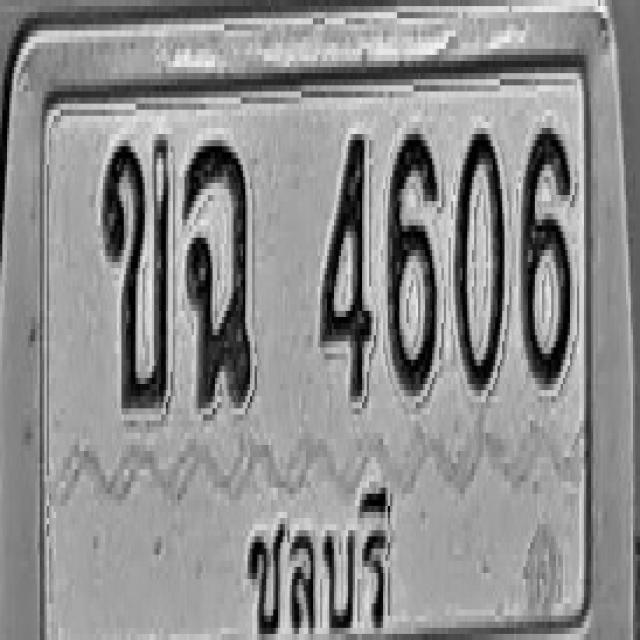0: (453, 125, 505, 393)
11KhorKhai: (100, 134, 170, 408)
18ChorChing: (182, 140, 252, 408)
4: (320, 128, 371, 402)
6: (387, 128, 438, 396), (521, 122, 570, 384)
Chonburi: (236, 470, 393, 640)
